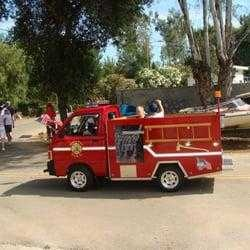Fire Truck: (42, 100, 227, 202)
